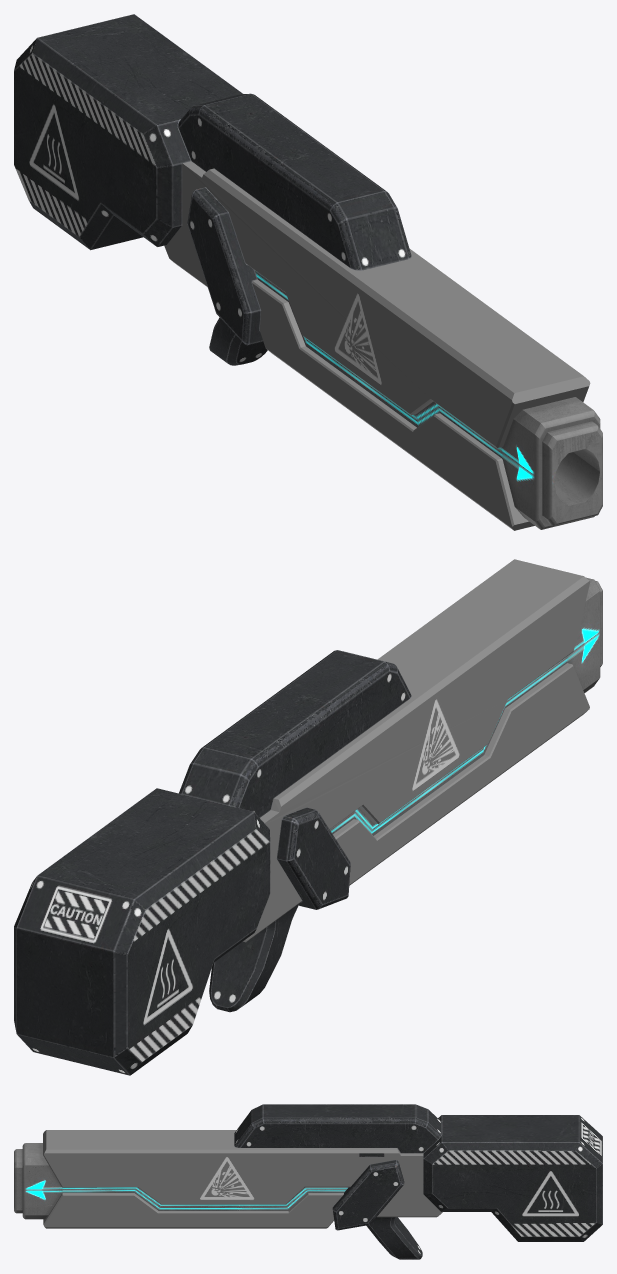
File: plasma_rifle.fbx
The picture shows the model from 3 angles, top to bottom: view 1: azimuth 30°, elevation 25°; view 2: azimuth 150°, elevation 25°; view 3: azimuth 270°, elevation 25°; orthographic projection. The views are drawn at different scales.
Parts seen in each view (by area): view 1: gunB; view 2: gunB; view 3: gunB.
Part boxes in pixels (x1=…): gunB: x1=14, y1=14, x2=602, y2=530; gunB: x1=14, y1=559, x2=602, y2=1075; gunB: x1=14, y1=1104, x2=602, y2=1259.
Bounding box in the file's own units: 0.0458 × 0.0978 × 0.3565.
